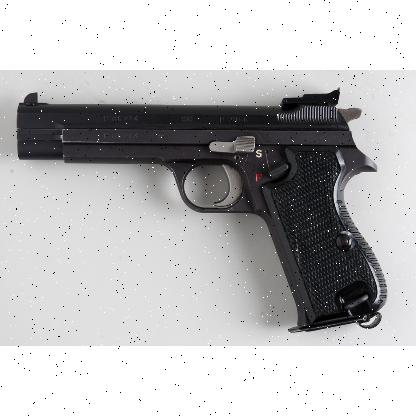gun: (16, 85, 388, 331)
